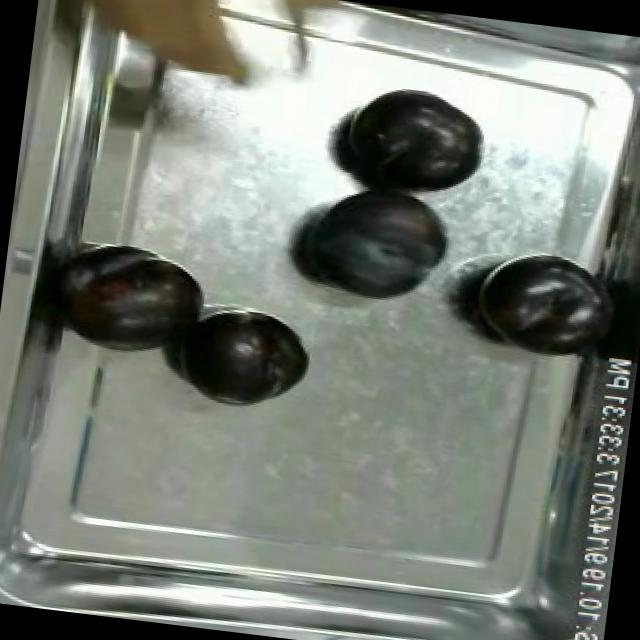Fruit: (283, 172, 463, 318), (326, 72, 495, 210), (456, 240, 605, 370), (58, 243, 212, 362), (172, 301, 318, 419)
